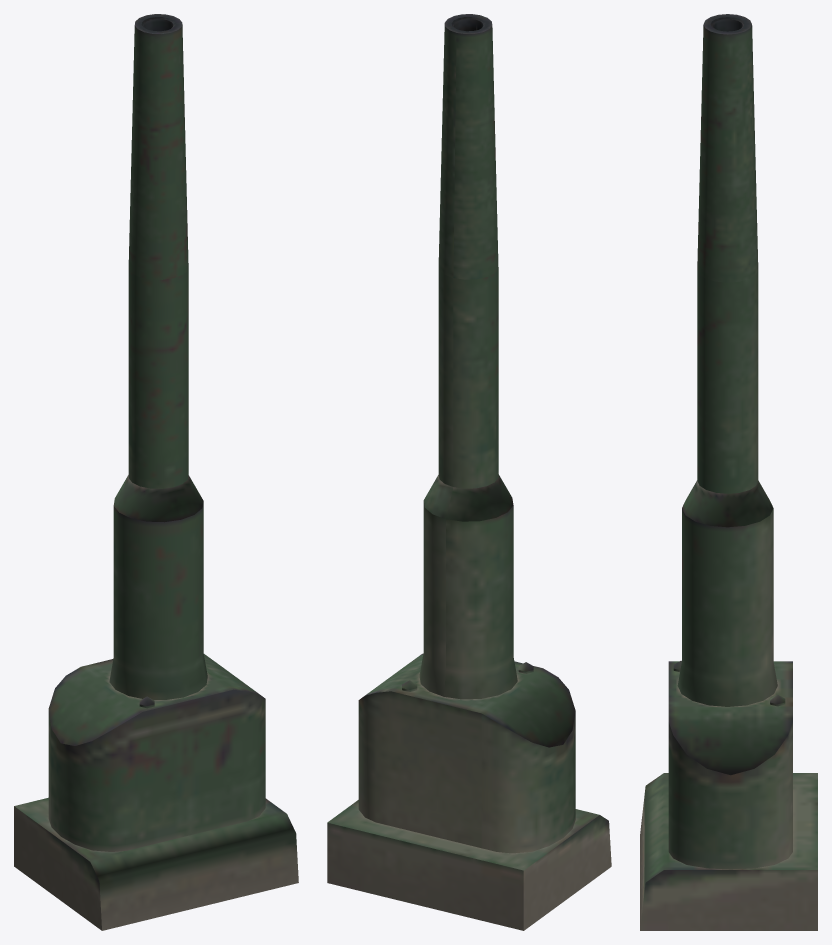
File: Gun_05.glb
3 renders of one model, left to right at view 1: azimuth 30°, elevation 25°; view 2: azimuth 150°, elevation 25°; view 3: azimuth 270°, elevation 25°, orthographic.
Parts seen in each view (by area): view 1: set_0_group_0; view 2: set_0_group_0; view 3: set_0_group_0.
Part boxes in pixels (x1,y1,x2,y2): set_0_group_0: (14,14,298,930); set_0_group_0: (327,14,611,930); set_0_group_0: (640,14,817,930).
Size of the model in its own units: 0.2821 by 1.17 by 0.2186.
1 material, 1 textured.
